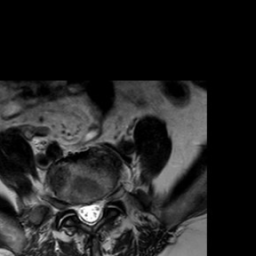CCS_normal: (86, 193, 94, 233)
LFS_normal: (103, 179, 111, 213)
LLS_normal: (94, 191, 103, 225)
RFS_stenosis: (66, 190, 76, 220)
RLS_normal: (76, 193, 86, 229)
